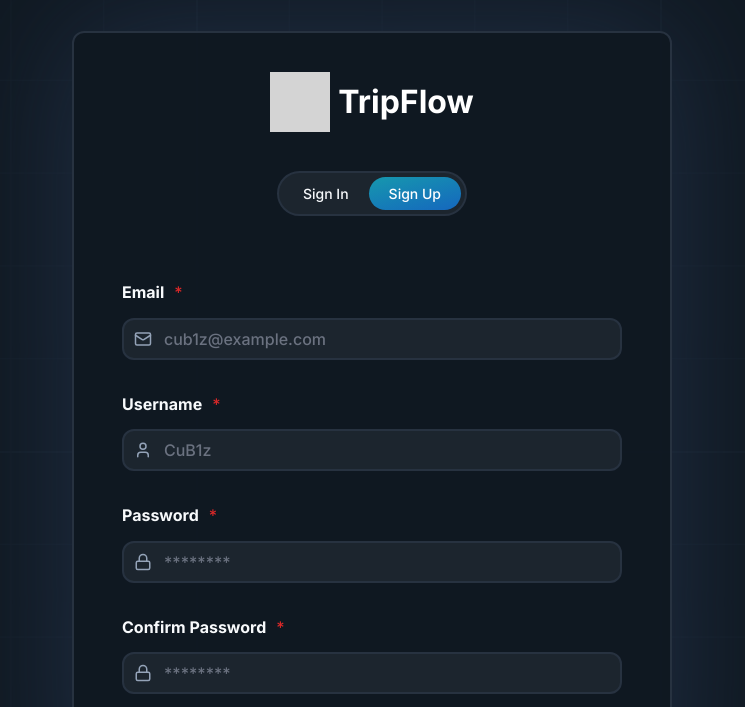
Register Page Validation › shows validation error for mismatched passwords
In the field labelled "Username *": (372, 450) [122,429,622,471], type "testuser"
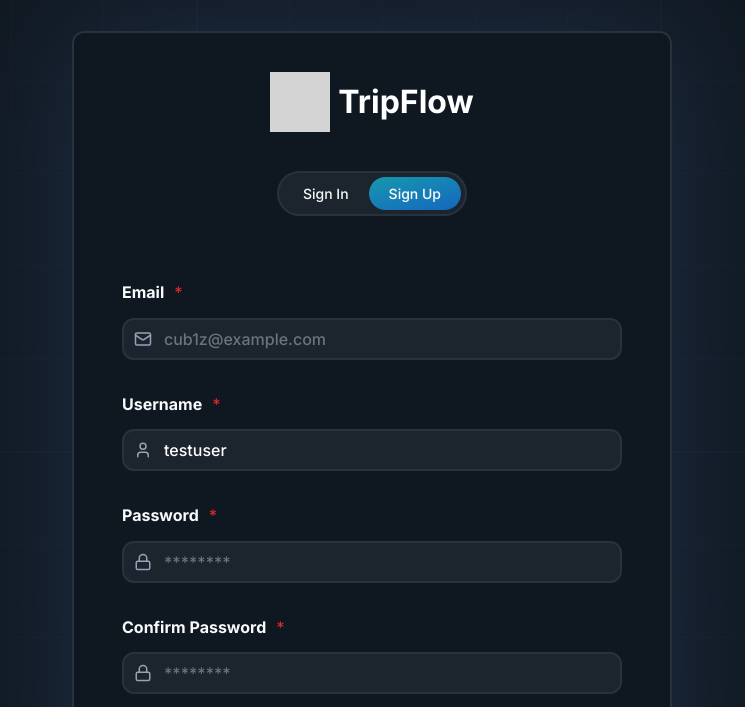
In the password field labelled "Password *": (372, 562) [122,541,622,583], type "Password123"
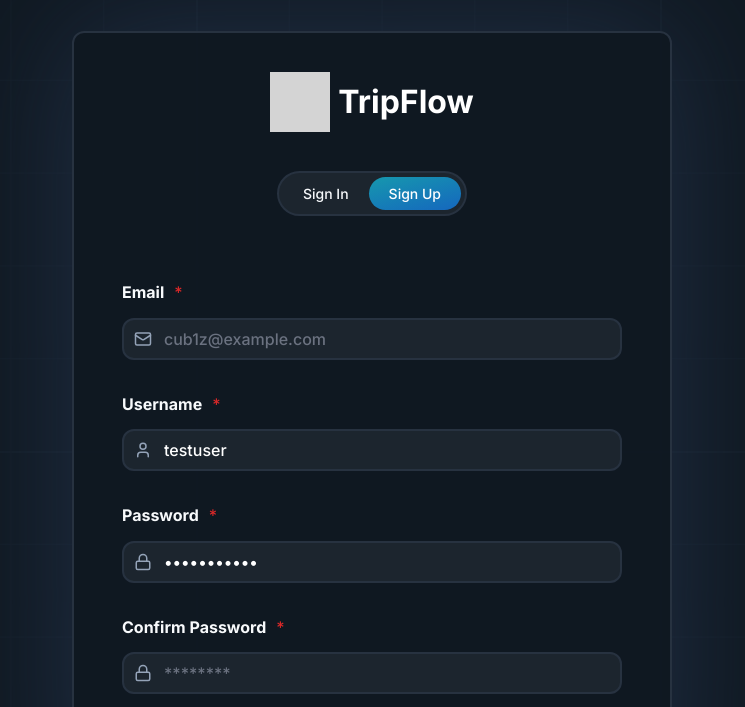
In the password field labelled "Confirm Password *": (372, 673) [122,652,622,694], type "Password456"
(page scrolled)
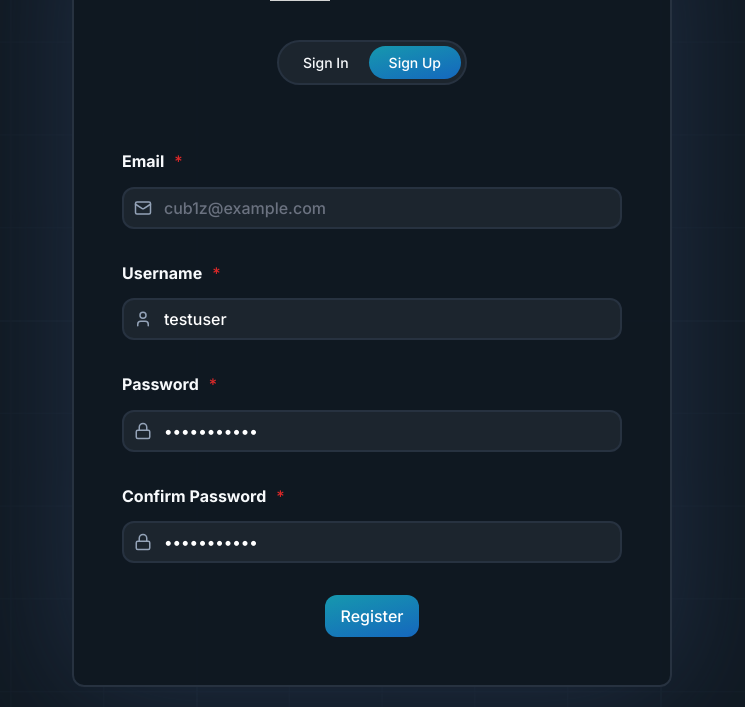
Click the button "Register": (372, 616) [324,595,420,637]
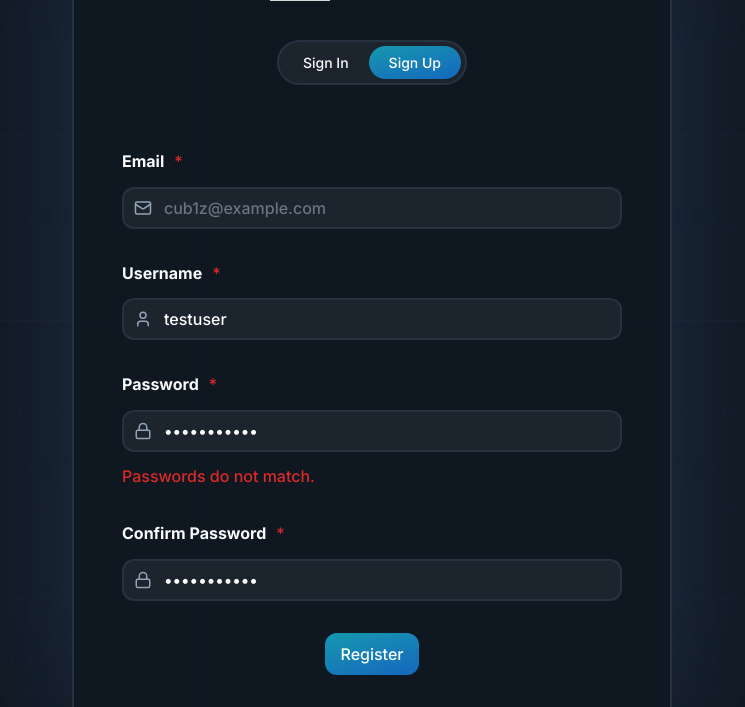
Now the text "Passwords do not match." is shown, box [122,466,315,486]
